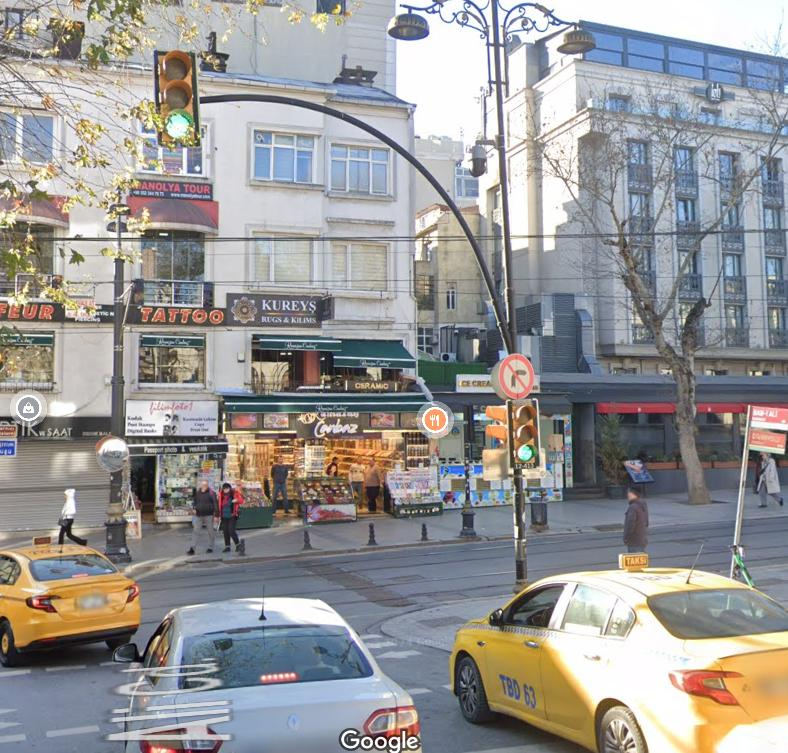greenlight: (155, 49, 199, 148), (508, 400, 539, 471)
rightturnsareforbidden: (498, 354, 538, 399)
